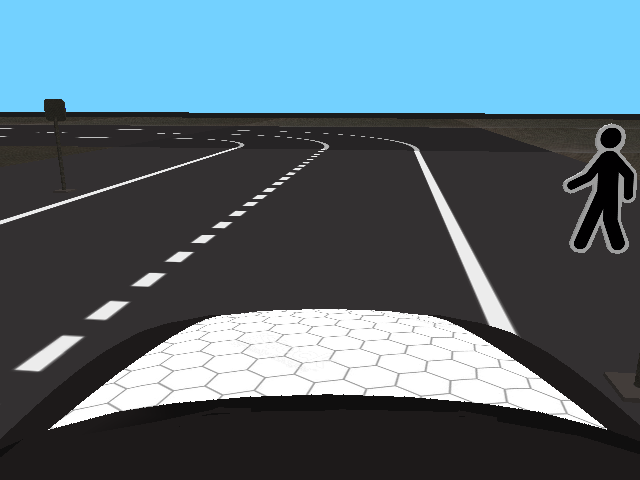pedestrian: (560, 120, 638, 256)
